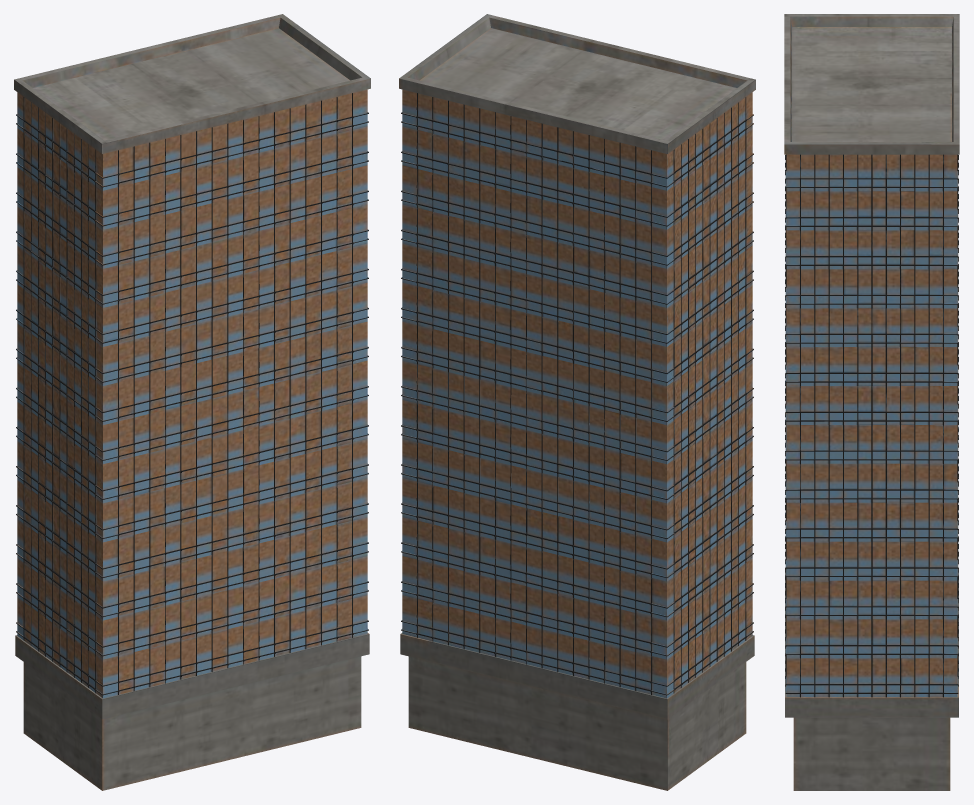
File: building-big-wide-02.glb
The picture shows the model from 3 angles, left to right: view 1: azimuth 30°, elevation 25°; view 2: azimuth 150°, elevation 25°; view 3: azimuth 270°, elevation 25°; orthographic projection.
Parts seen in each view (by area): view 1: Building-Big-Wide-02_Bake1_PBR; view 2: Building-Big-Wide-02_Bake1_PBR; view 3: Building-Big-Wide-02_Bake1_PBR.
Part boxes in pixels (<box>): Building-Big-Wide-02_Bake1_PBR: <box>14,14,370,790</box>; Building-Big-Wide-02_Bake1_PBR: <box>399,14,755,790</box>; Building-Big-Wide-02_Bake1_PBR: <box>784,14,959,790</box>.
Bounding box in the file's own units: 34.44 × 79.77 × 19.56.
Materials: 1 (1 with a texture image).
